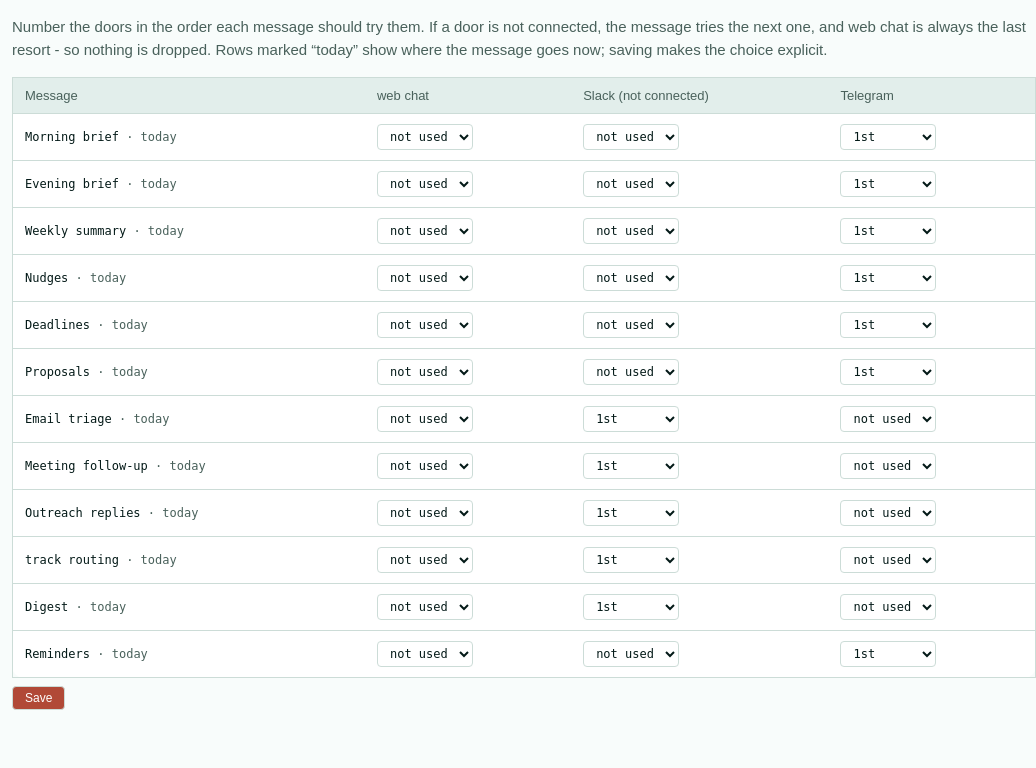
DeliveryGrid › saves every row, in the order numbered
Select "2nd" in the dropdown named "Morning brief via web chat" at (425, 137), box [377,124,473,150]
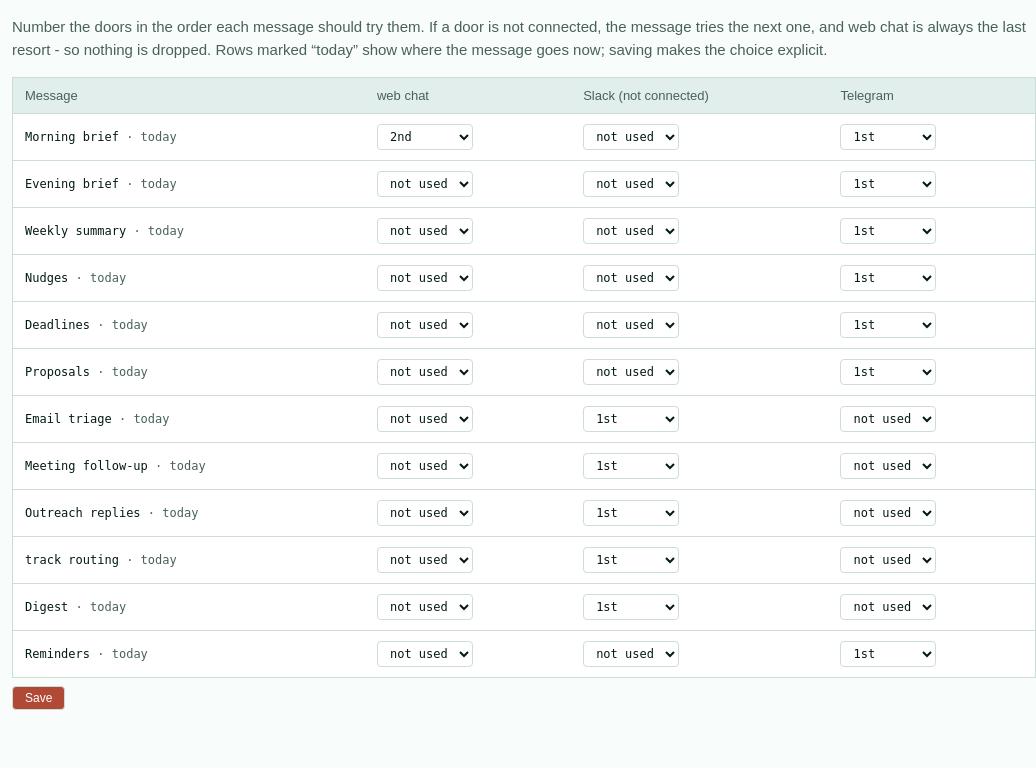
Click the button "Save" at (39, 698), box [12,686,65,710]
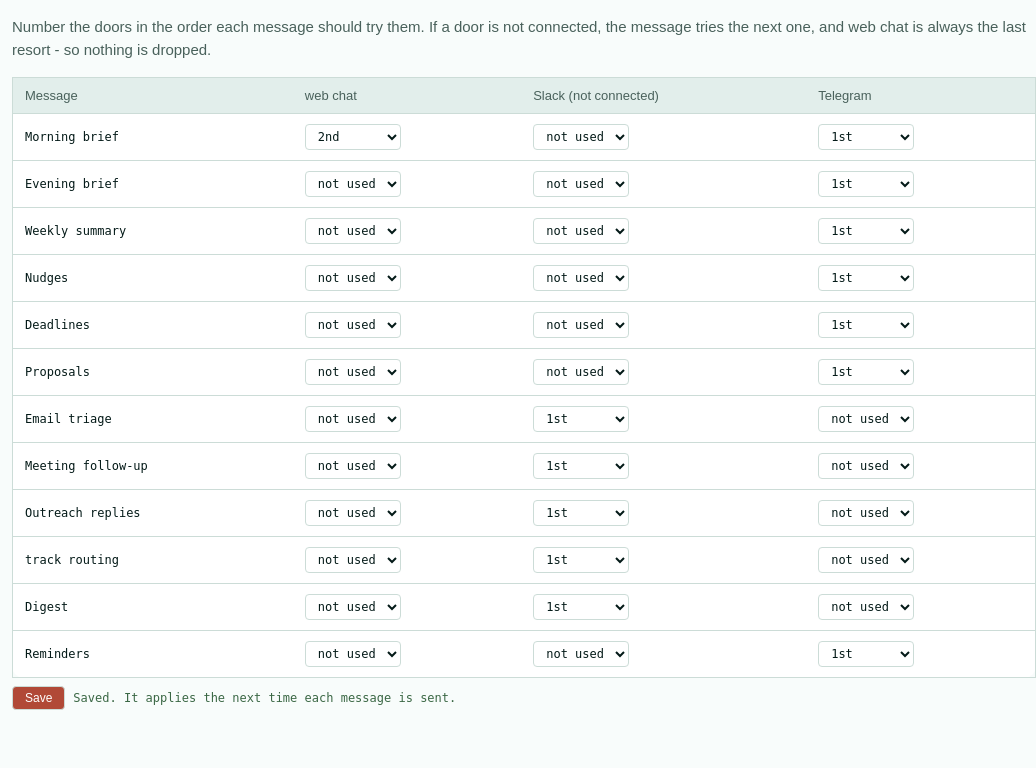
Check: the text "Saved. It applies the next time each message is sent." is shown, box [73,689,456,707]
